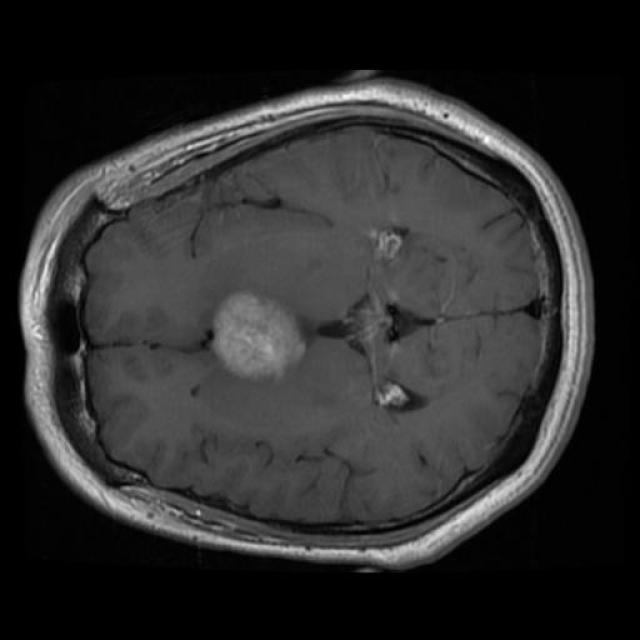Pituitary: (212, 292, 306, 379)
